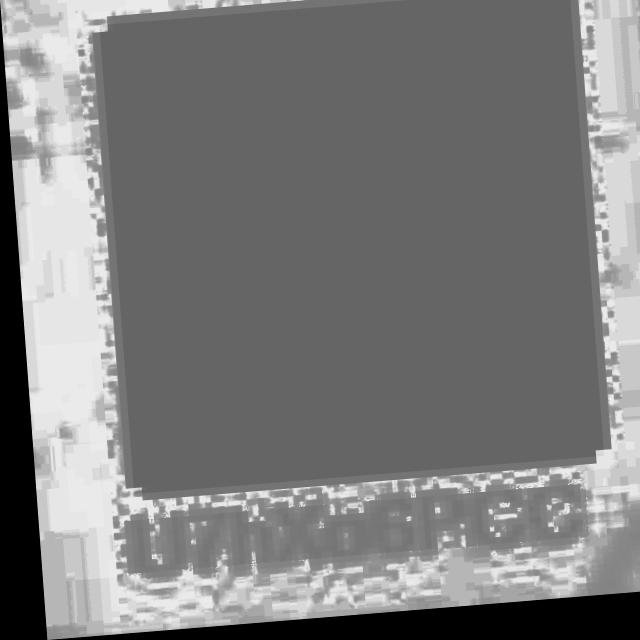qr_code: (99, 0, 596, 496)
